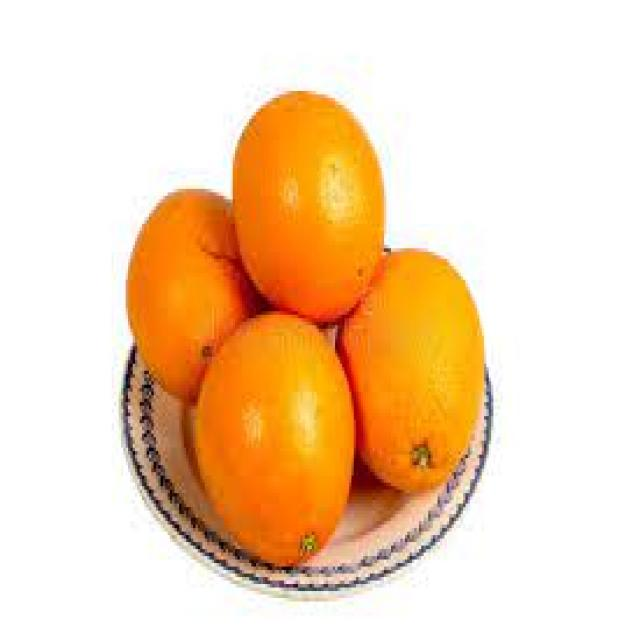orange: (193, 315, 356, 570), (340, 244, 491, 496), (232, 84, 388, 325), (123, 185, 268, 399)
